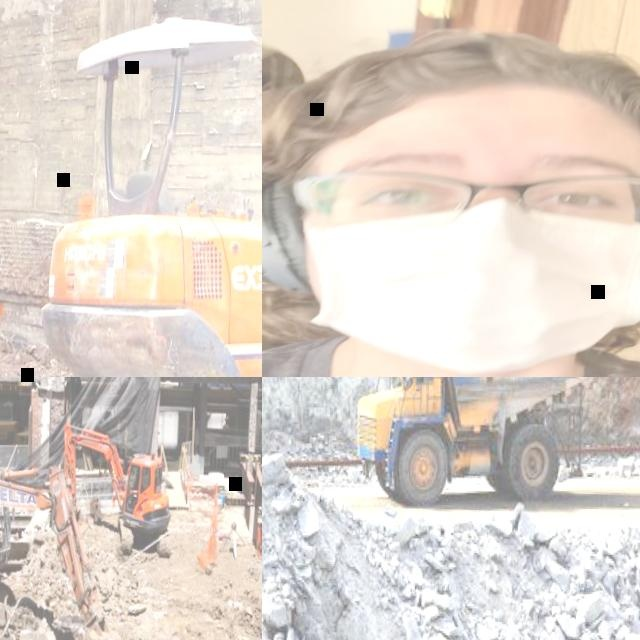Mask: (300, 205, 640, 377)
NO-Hardhat: (262, 20, 640, 163)
Person: (262, 15, 640, 377)
Safety Cone: (211, 483, 220, 531)
machinery: (40, 14, 262, 377), (350, 377, 594, 519), (0, 474, 127, 640), (58, 420, 176, 563), (193, 406, 262, 473)
